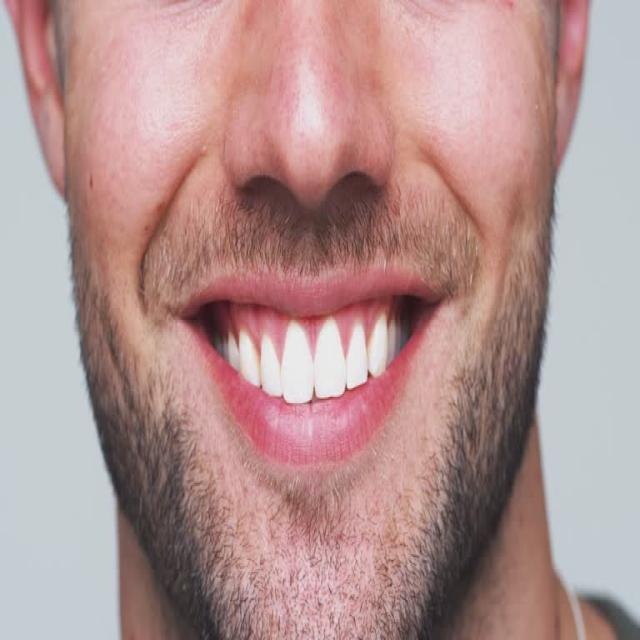tooth: (314, 314, 348, 403), (281, 326, 315, 403), (344, 328, 370, 386), (239, 334, 260, 390), (256, 347, 279, 397), (370, 312, 388, 370), (225, 338, 239, 369)
